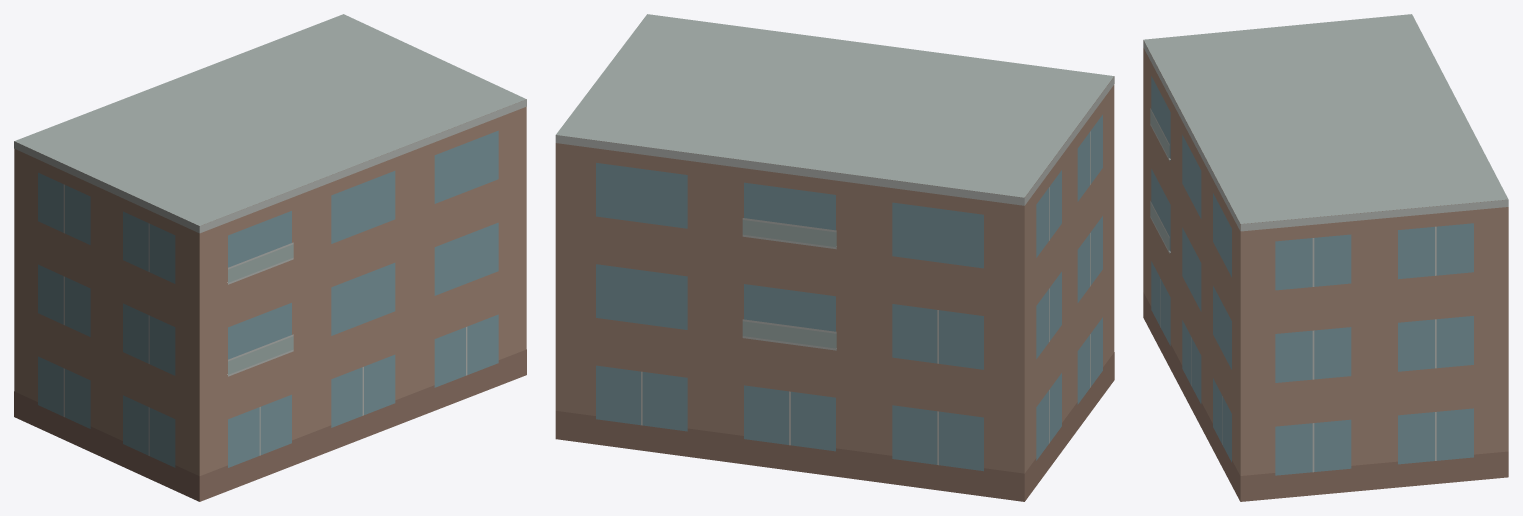
The model's file is survey-upis-32972263.glb.
3 renders of one model, left to right at view 1: azimuth 30°, elevation 25°; view 2: azimuth 150°, elevation 25°; view 3: azimuth 270°, elevation 25°, orthographic. The views are drawn at different scales.
Visible parts, largest first — view 1: survey-upis-32972263.tmp; view 2: survey-upis-32972263.tmp; view 3: survey-upis-32972263.tmp.
Part boxes in pixels (<box>): survey-upis-32972263.tmp: <box>14,14,526,501</box>; survey-upis-32972263.tmp: <box>555,14,1114,501</box>; survey-upis-32972263.tmp: <box>1143,14,1508,501</box>.
Bounding box in the file's own units: 14.85 × 9.15 × 10.92.
